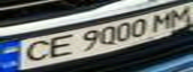0: (127, 16, 154, 38), (115, 20, 136, 43), (100, 24, 118, 47)
9: (75, 27, 103, 53)
C: (9, 38, 57, 66)
E: (39, 33, 78, 61)
M: (145, 9, 178, 34), (163, 4, 193, 29)
